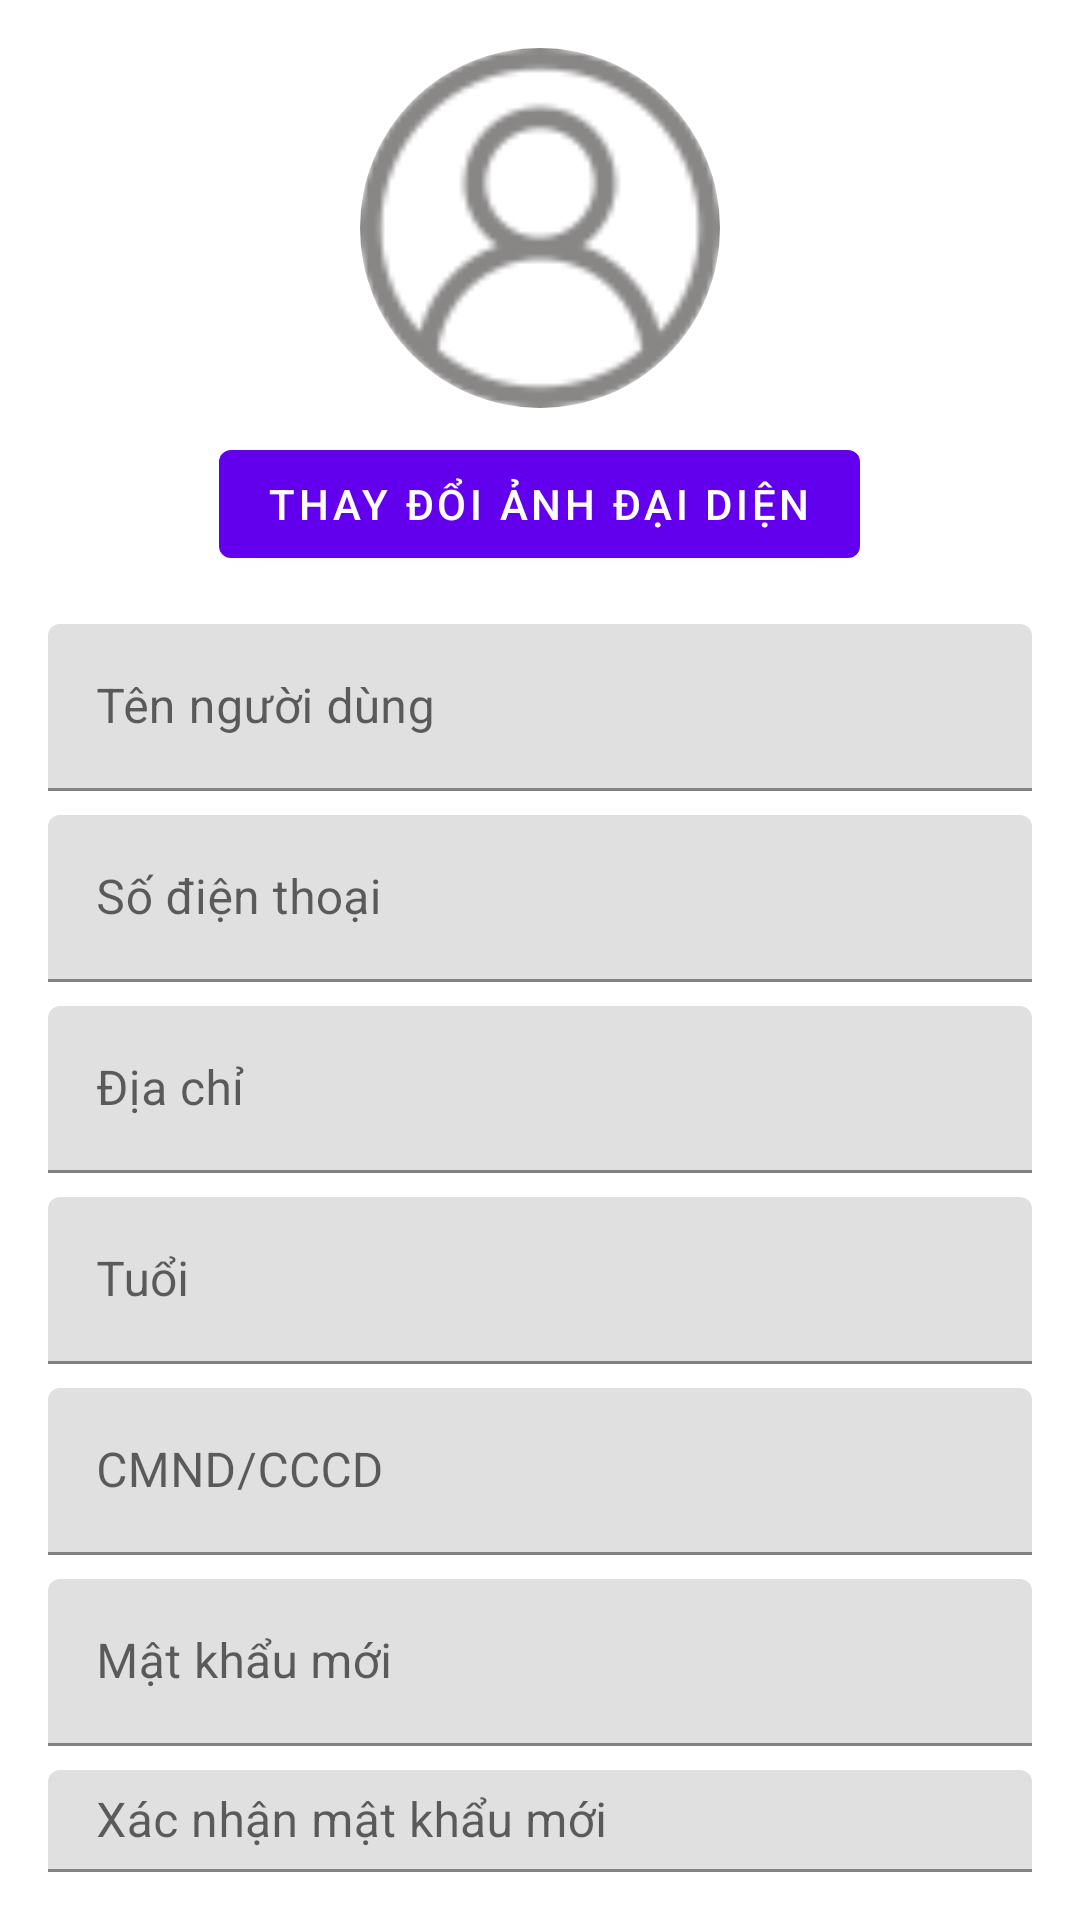

Screen size 1080×1920. Icon name, then its center in pixels as point (x, y):
user: point (540, 228)
